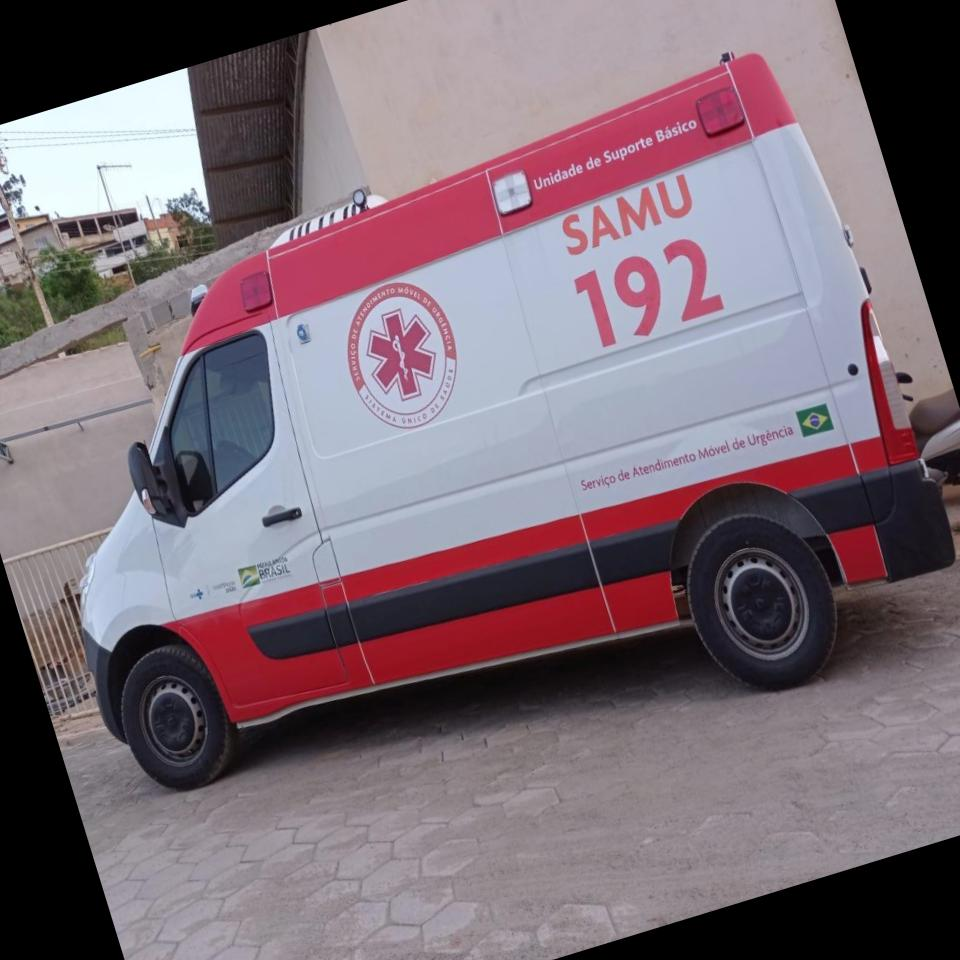bombeiro: (0, 37, 960, 886)
